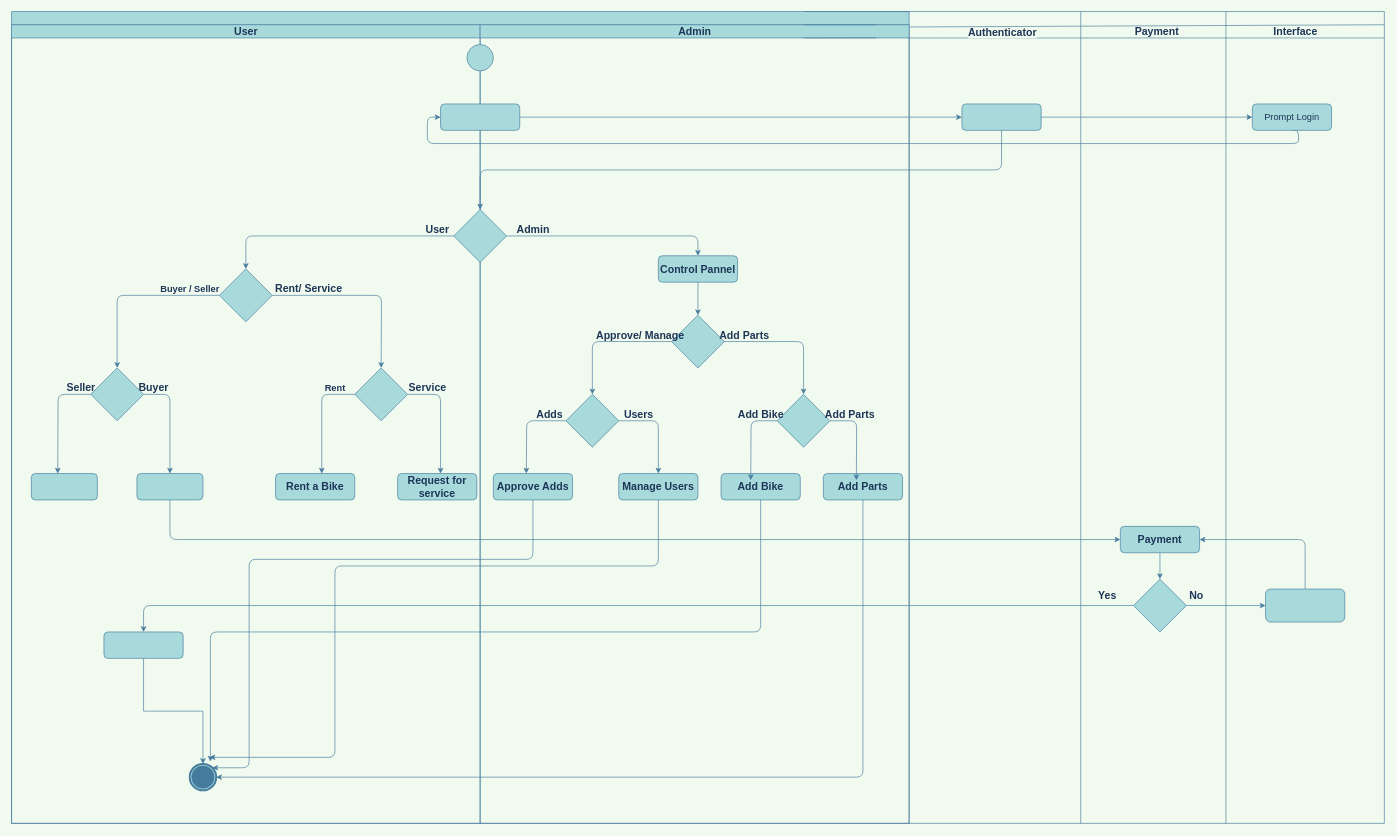
Image size: 1397x836. Some labels were removed from this diagram. Each missing label, with the centre of its shape:
Add to Cart: pixel 169 486
Login: pixel 480 116
Order Success: pixel 143 644
Post Add: pixel 64 486
Prompt: pixel 1305 605
Verify: pixel 1001 116
